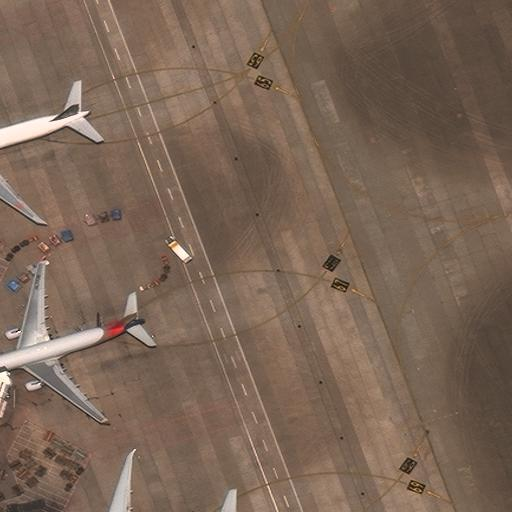Large Civil Transport: (0, 260, 146, 427), (0, 62, 90, 222), (73, 450, 233, 511)
